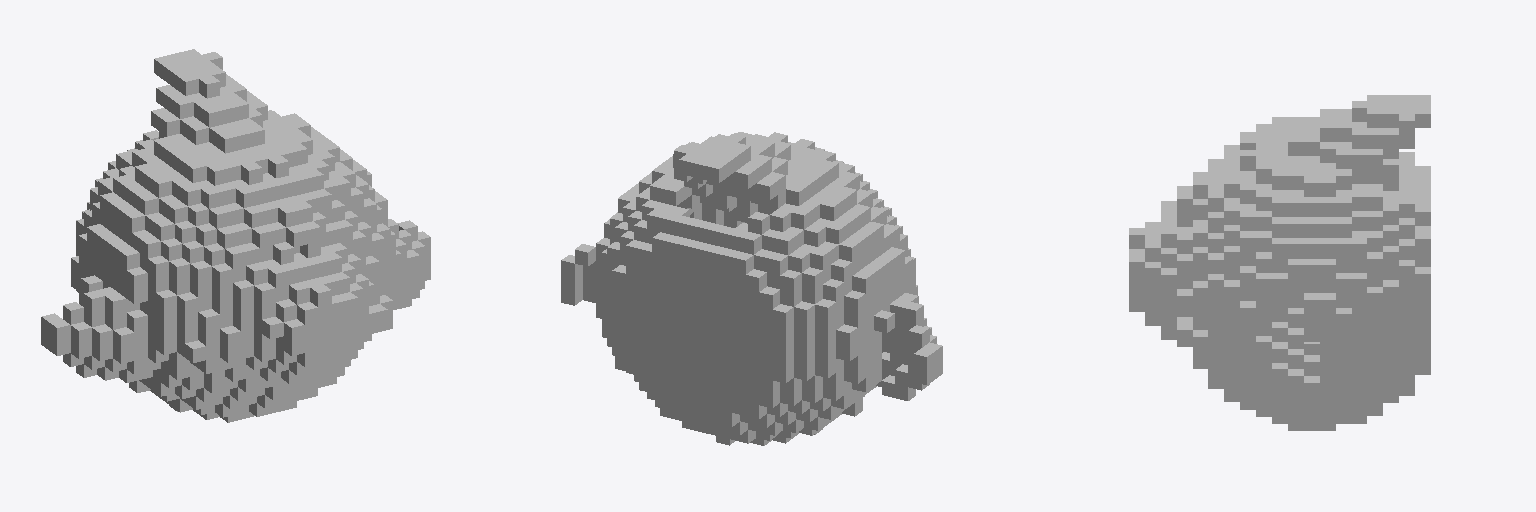
The model's file is exported_to_dante.obj.
3 views of the same model, side by side, from view 1: azimuth 30°, elevation 25°; view 2: azimuth 150°, elevation 25°; view 3: azimuth 270°, elevation 25° (orthographic).
Parts seen in each view (by area): view 1: _Combined Mesh [Voxel Mesh]; view 2: _Combined Mesh [Voxel Mesh]; view 3: _Combined Mesh [Voxel Mesh].
Boxes of the visible parts, box(x1,y1,x2,y2) form: _Combined Mesh [Voxel Mesh]: box(41, 49, 430, 422); _Combined Mesh [Voxel Mesh]: box(561, 132, 942, 445); _Combined Mesh [Voxel Mesh]: box(1129, 95, 1430, 430).
Bounding box in the file's own units: 1.38 × 1.05 × 0.9676.